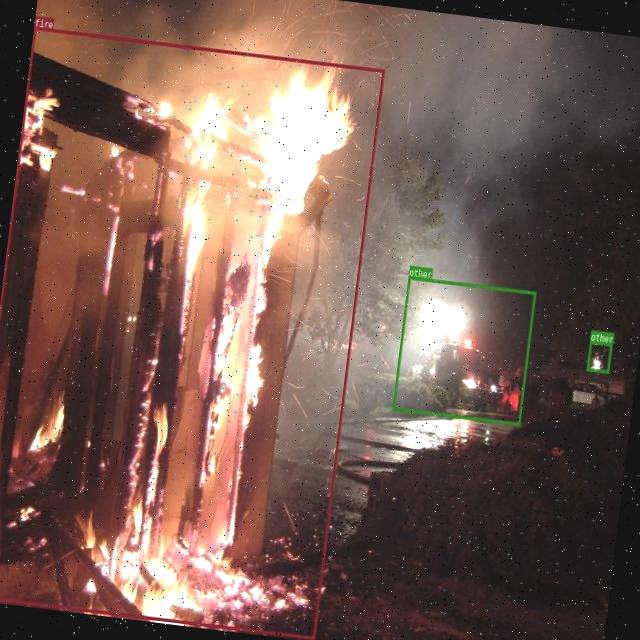fire: (0, 24, 383, 638)
